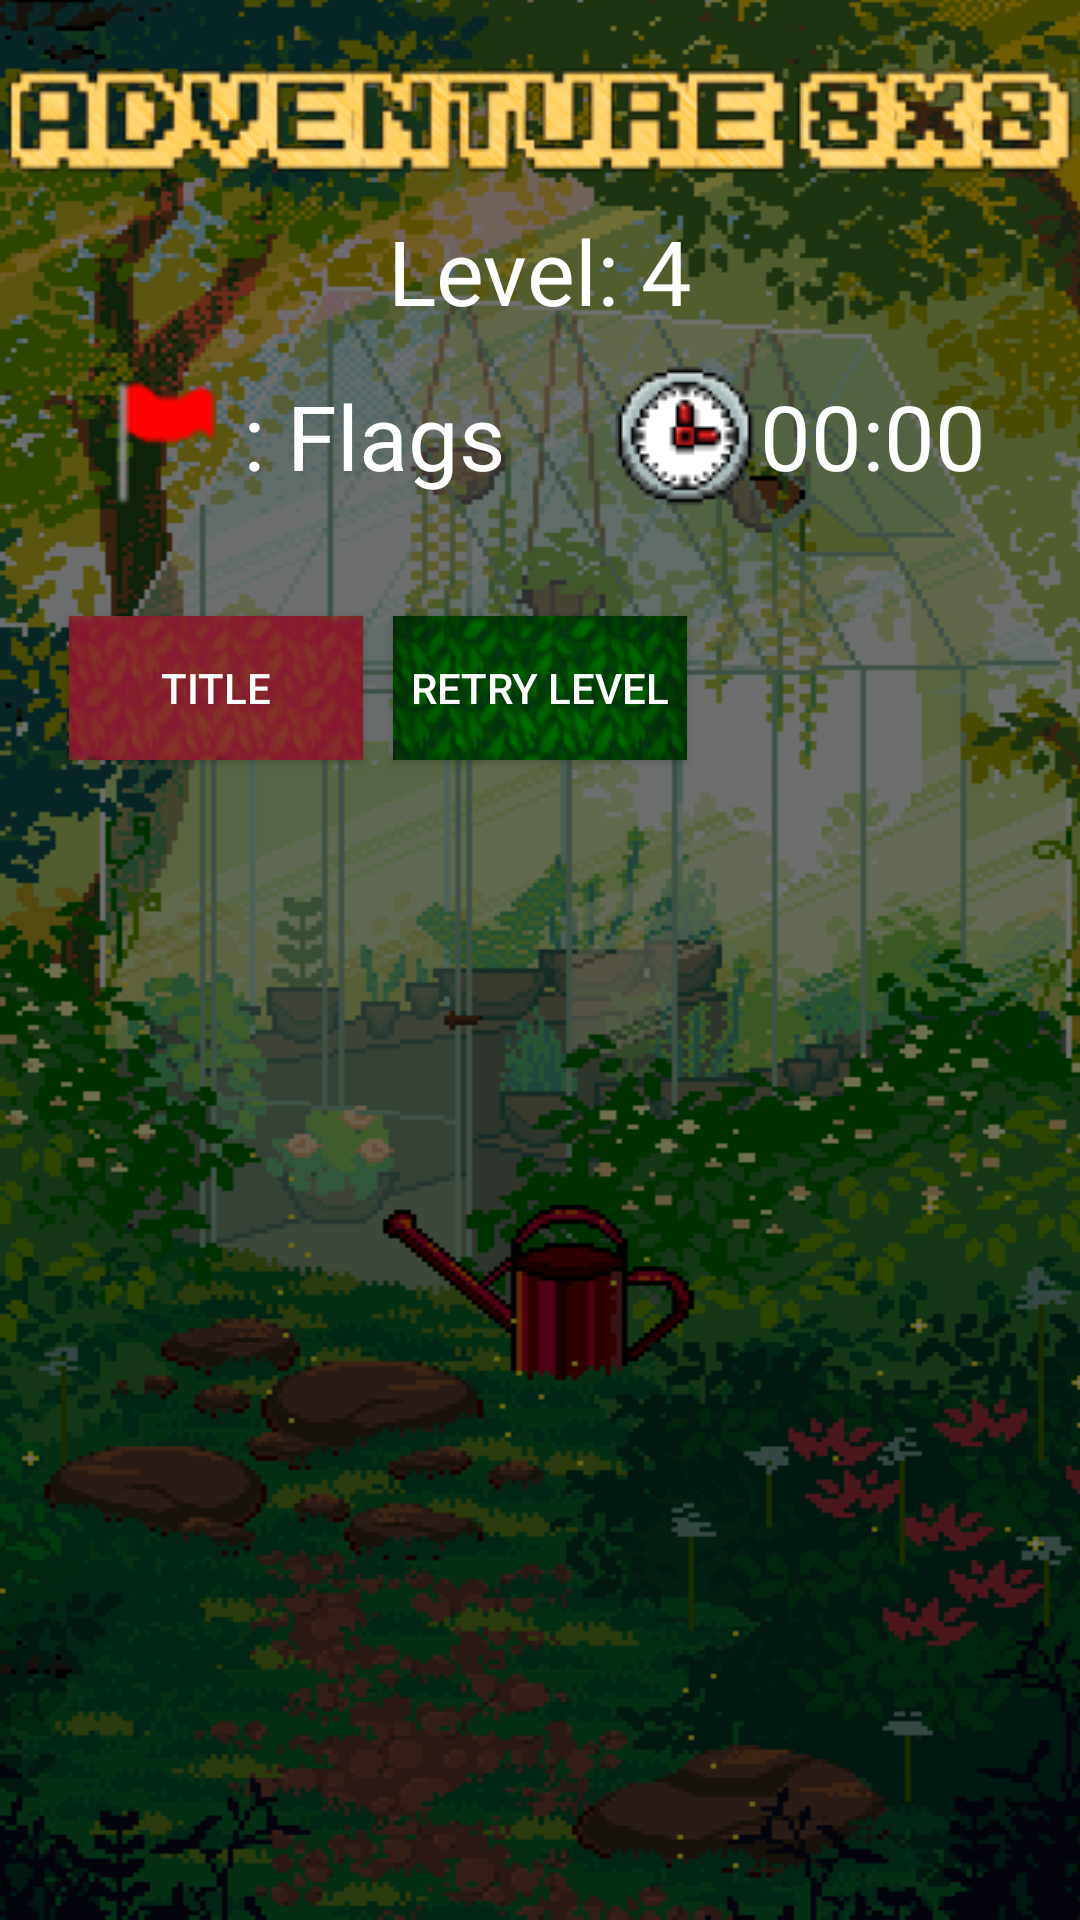

Where to tap for icons on this 1080 × 1920 app screen, as point (x, y):
clock: point (685, 436)
uiflag: point (168, 436)
